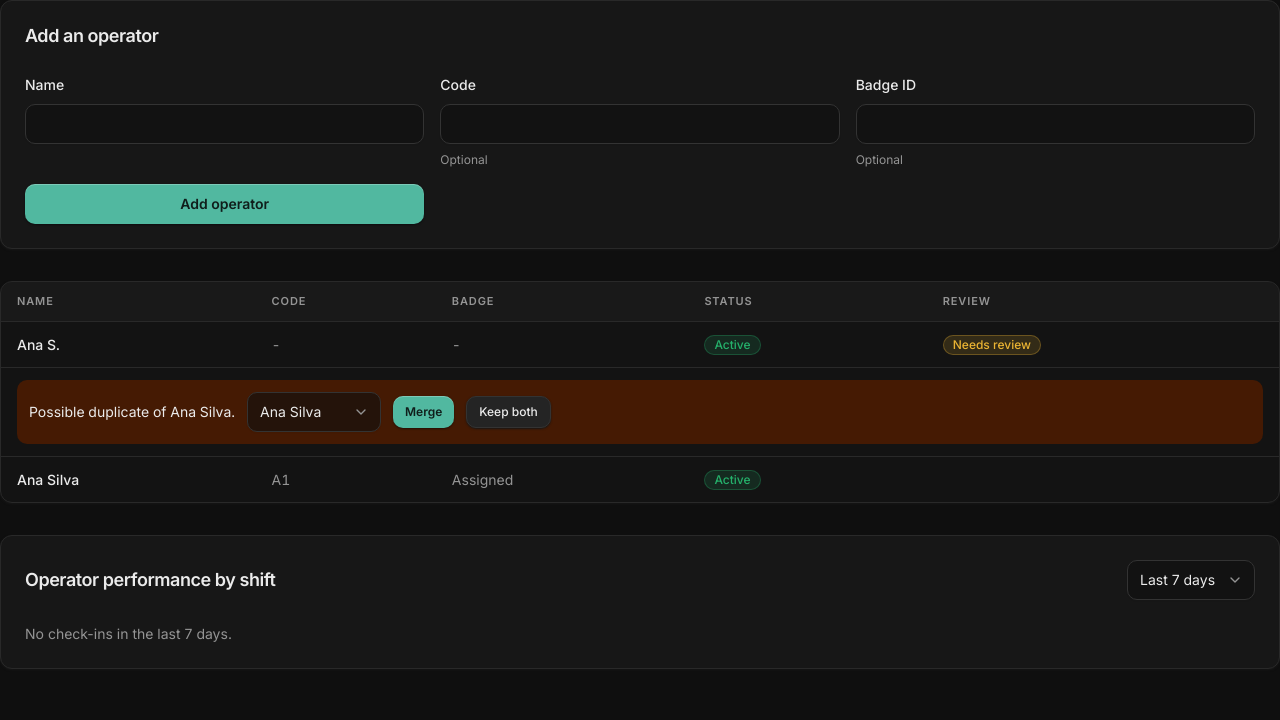
Test: OperatorsPanel › shows an add error
Type "Ben" into the field labelled "Name".
click(225, 124); type("Ben")  # box top-left (25, 104), bottom-right (424, 144)
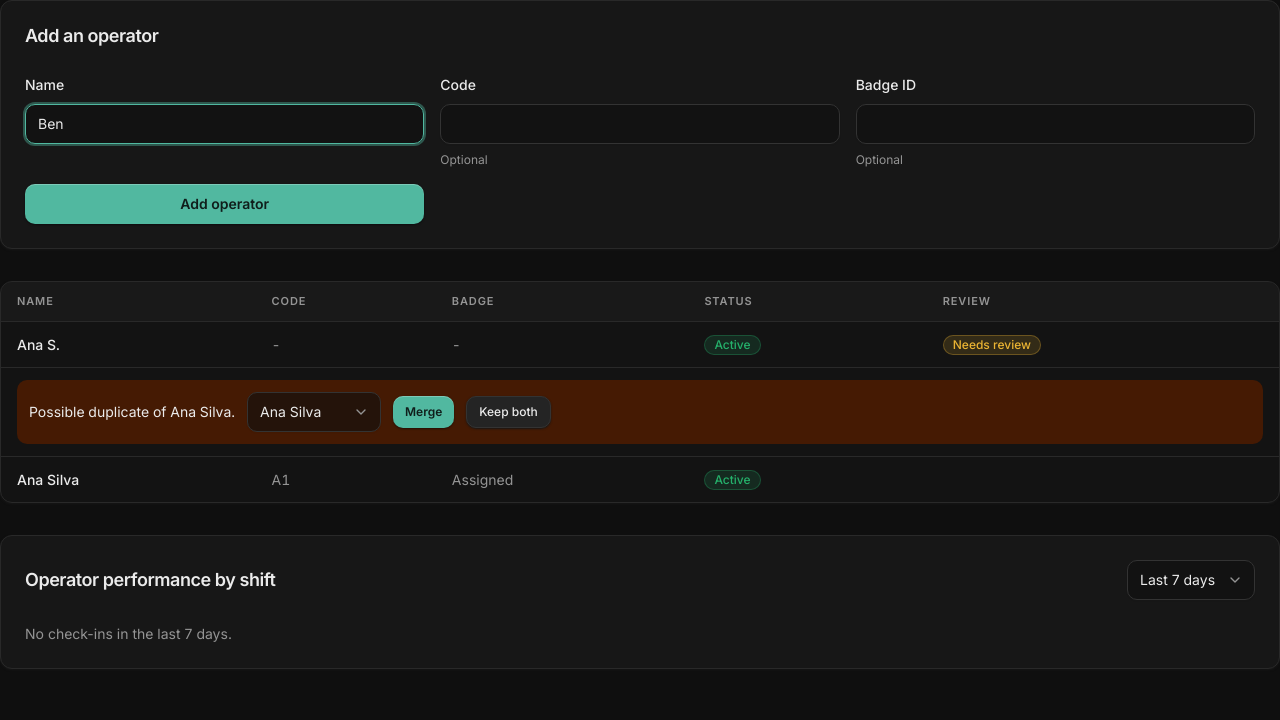
Click the button "Add operator".
click(225, 204)  # box top-left (25, 184), bottom-right (424, 224)
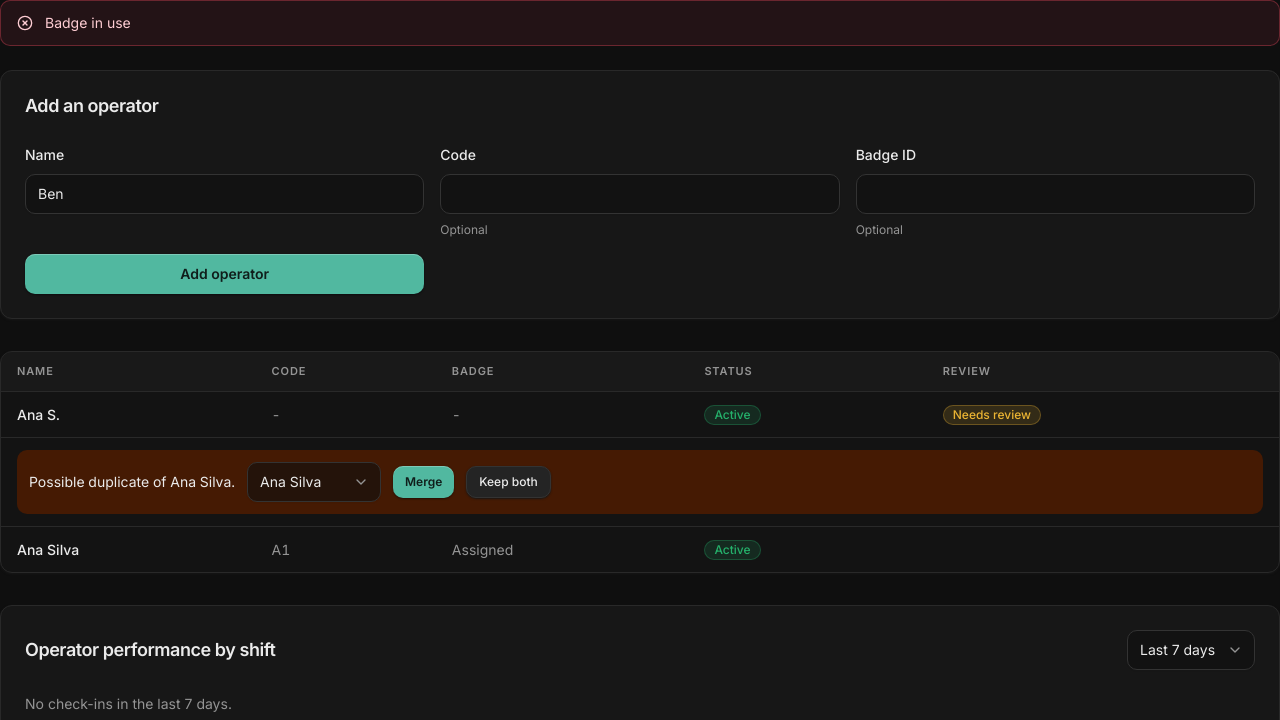
Expected: the text "Badge in use" is shown, top-left (45, 13), bottom-right (131, 33)
